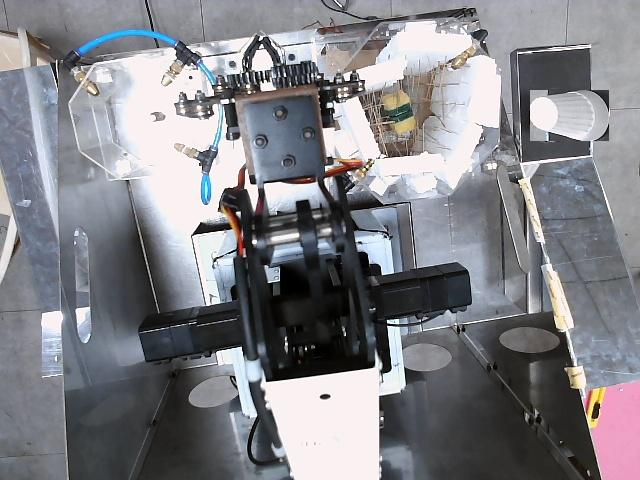cup: (530, 90, 609, 141)
